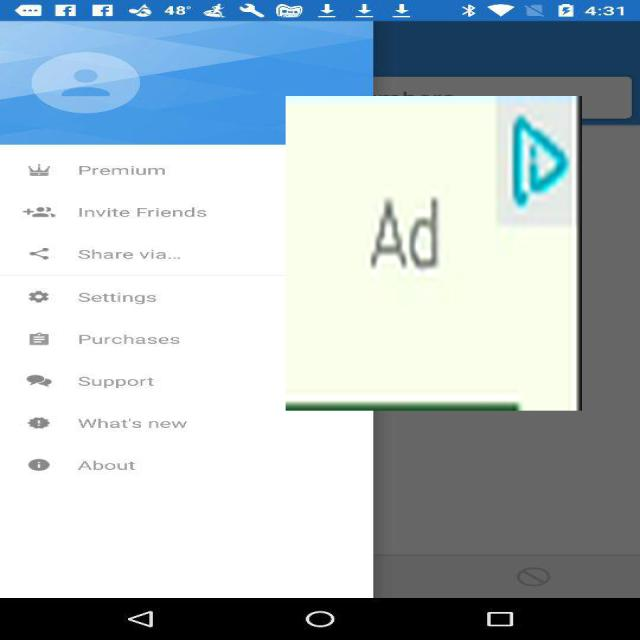sneaking: (286, 96, 582, 411)
